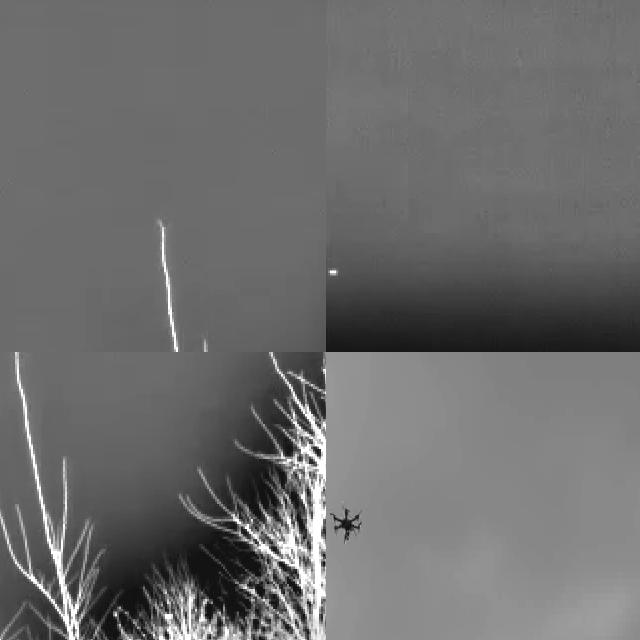1: (326, 256, 346, 284)
drone: (329, 500, 366, 551)
